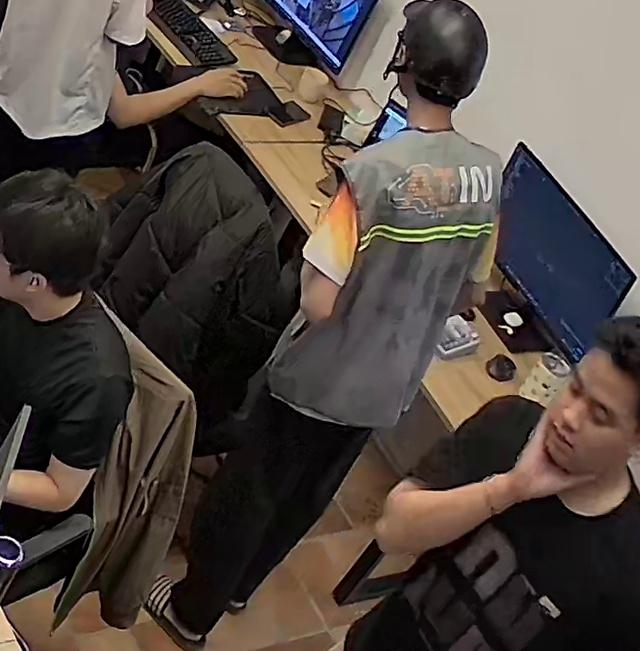helmet: (390, 0, 488, 103)
no_helmet: (1, 170, 109, 291), (574, 315, 638, 438)
none: (343, 403, 640, 646), (2, 288, 135, 479)
vest: (270, 127, 502, 430)
